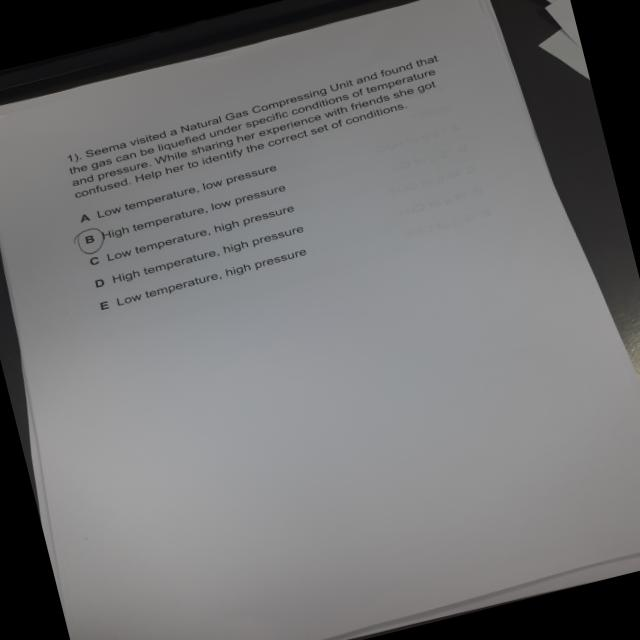B: (70, 225, 112, 259)
